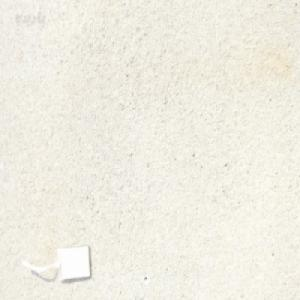LuggageTag: (23, 242, 89, 284)
